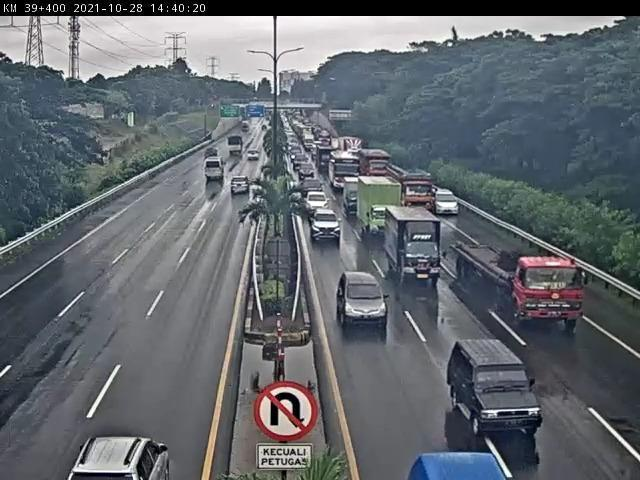bus: (206, 156, 226, 183)
car: (446, 338, 544, 437), (337, 271, 394, 335), (432, 183, 463, 216), (312, 207, 343, 239), (306, 190, 330, 214), (231, 176, 252, 195)
truck: (451, 247, 584, 336), (384, 208, 442, 287), (356, 172, 395, 232), (387, 160, 432, 206), (339, 172, 357, 207)
